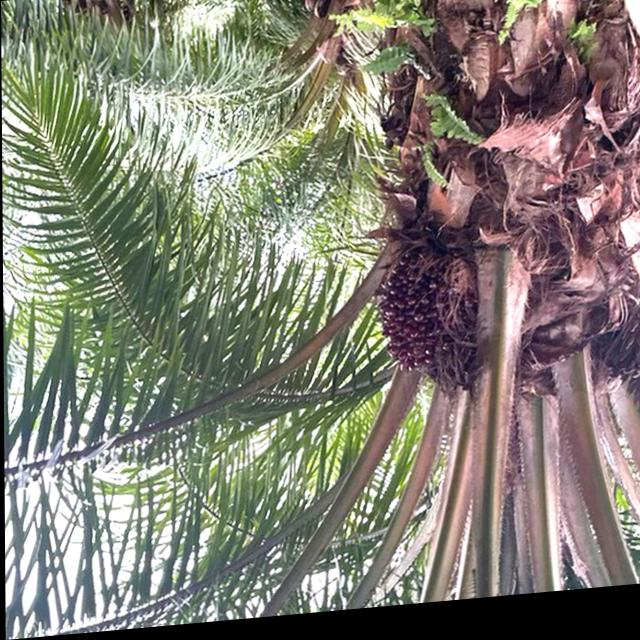ripe: (365, 234, 470, 400)
